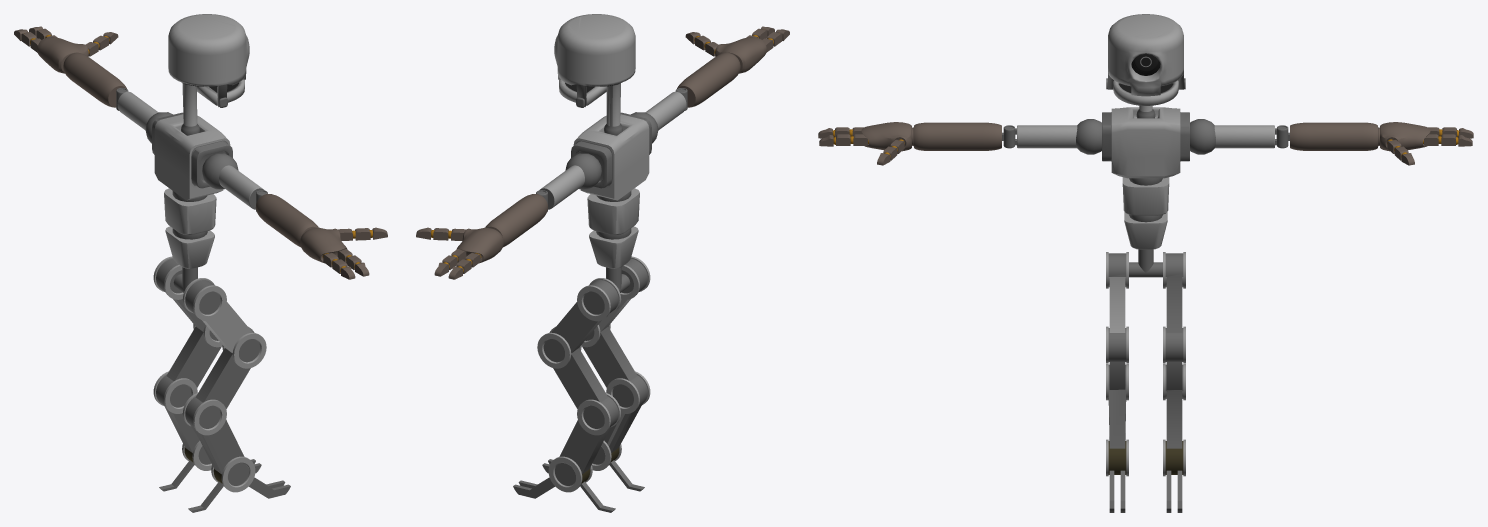
The model's file is robot_v2_torig.fbx.
3 renders of one model, left to right at view 1: azimuth 30°, elevation 25°; view 2: azimuth 150°, elevation 25°; view 3: azimuth 270°, elevation 25°, orthographic. The views are drawn at different scales.
Visible parts, largest first — view 1: Head, UpperBody, LowerThighR, CalfR, ThighR, MidBody, FootR, LowerThighL, ForearmL, UpperArmR, CalfL, ForearmR (+8 smaller); view 2: Head, UpperBody, LowerThighL, CalfL, ThighL, MidBody, FootL, LowerThighR, ForearmR, CalfR, UpperArmL, ForearmL (+8 smaller); view 3: UpperBody, Head, ForearmL, ForearmR, UpperArmL, UpperArmR, MidBody, ThighL, ThighR, CalfR, CalfL, LowerThighL (+8 smaller).
Boxes of the visible parts, <box> form: Head: <box>168,14,249,106</box>; UpperBody: <box>152,112,232,201</box>; LowerThighR: <box>195,326,266,409</box>; CalfR: <box>182,393,244,474</box>; ThighR: <box>182,278,252,352</box>; MidBody: <box>164,188,216,239</box>; FootR: <box>188,456,290,512</box>; LowerThighL: <box>166,324,222,387</box>; ForearmL: <box>63,52,126,107</box>; UpperArmR: <box>202,153,267,211</box>; CalfL: <box>153,371,199,452</box>; ForearmR: <box>255,194,318,247</box>; Head: <box>554,14,635,106</box>; UpperBody: <box>571,112,651,201</box>; LowerThighL: <box>537,326,608,409</box>; CalfL: <box>559,393,621,474</box>; ThighL: <box>551,278,621,352</box>; MidBody: <box>587,188,639,239</box>; FootL: <box>513,456,615,512</box>; LowerThighR: <box>581,324,637,387</box>; ForearmR: <box>677,52,740,107</box>; CalfR: <box>604,371,650,452</box>; UpperArmL: <box>536,153,601,211</box>; ForearmL: <box>485,194,548,247</box>; UpperBody: <box>1102,107,1189,185</box>; Head: <box>1108,14,1183,96</box>; ForearmL: <box>1276,122,1378,150</box>; ForearmR: <box>913,122,1015,150</box>; UpperArmL: <box>1190,119,1288,154</box>; UpperArmR: <box>1003,119,1101,154</box>; MidBody: <box>1122,177,1169,222</box>; ThighL: <box>1163,252,1185,332</box>; ThighR: <box>1106,252,1128,332</box>; CalfR: <box>1106,363,1128,448</box>; CalfL: <box>1163,363,1185,448</box>; LowerThighL: <box>1163,326,1185,389</box>.
Bounding box in the file's own units: 298 × 1328 × 1723.
